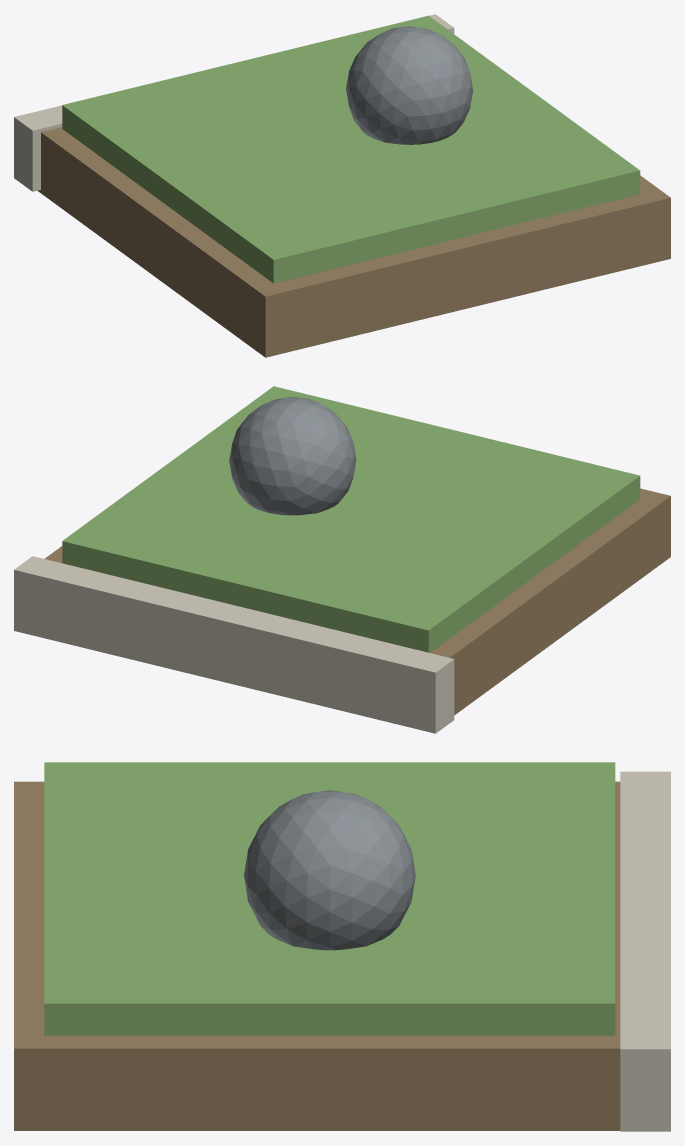
File: 30_Sat.glb
The picture shows the model from 3 angles, top to bottom: view 1: azimuth 30°, elevation 25°; view 2: azimuth 150°, elevation 25°; view 3: azimuth 270°, elevation 25°; orthographic projection. The views are drawn at different scales.
Parts seen in each view (by area): view 1: grass, soil, iron, border; view 2: grass, border, soil, iron; view 3: grass, soil, iron, border.
Boxes of the visible parts, bbox=[...] form: grass: bbox=[62, 15, 640, 283]; soil: bbox=[37, 127, 670, 357]; iron: bbox=[346, 26, 473, 144]; border: bbox=[14, 14, 454, 191]; grass: bbox=[62, 386, 640, 652]; border: bbox=[14, 556, 454, 733]; soil: bbox=[44, 488, 670, 715]; iron: bbox=[229, 396, 356, 515]; grass: bbox=[44, 762, 615, 1035]; soil: bbox=[14, 781, 620, 1130]; iron: bbox=[244, 790, 415, 950]; border: bbox=[620, 771, 670, 1131].
Size of the model in its own units: 1.3 by 0.52 by 1.3.
